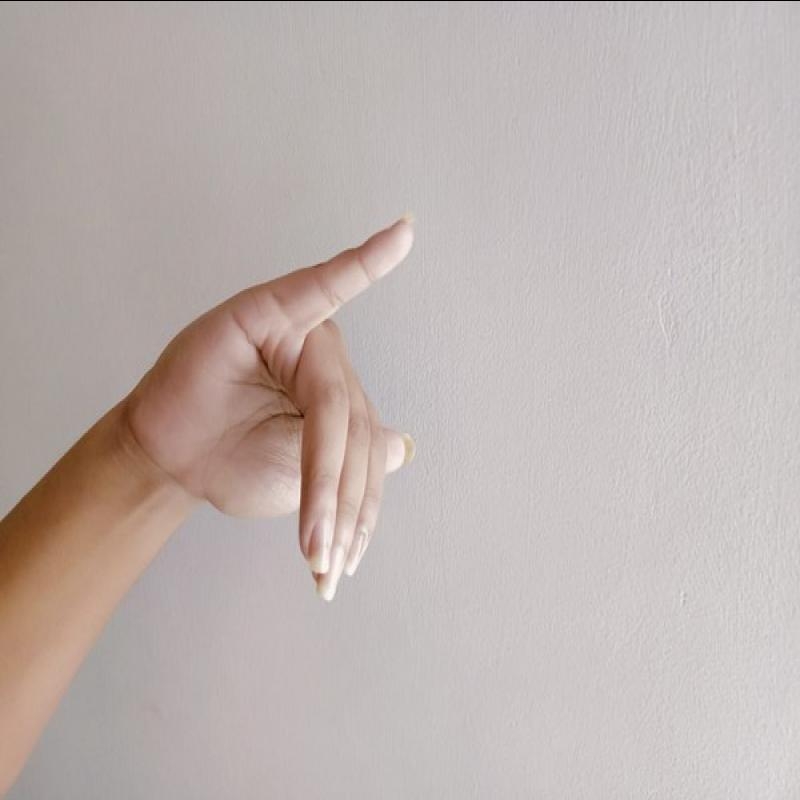Kartharee Mukham: (129, 196, 456, 620)
